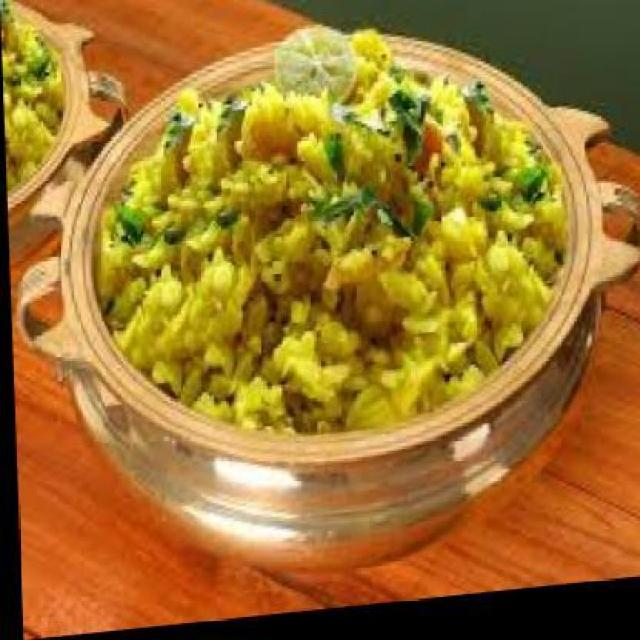poha: (84, 12, 570, 462), (0, 0, 66, 194)
